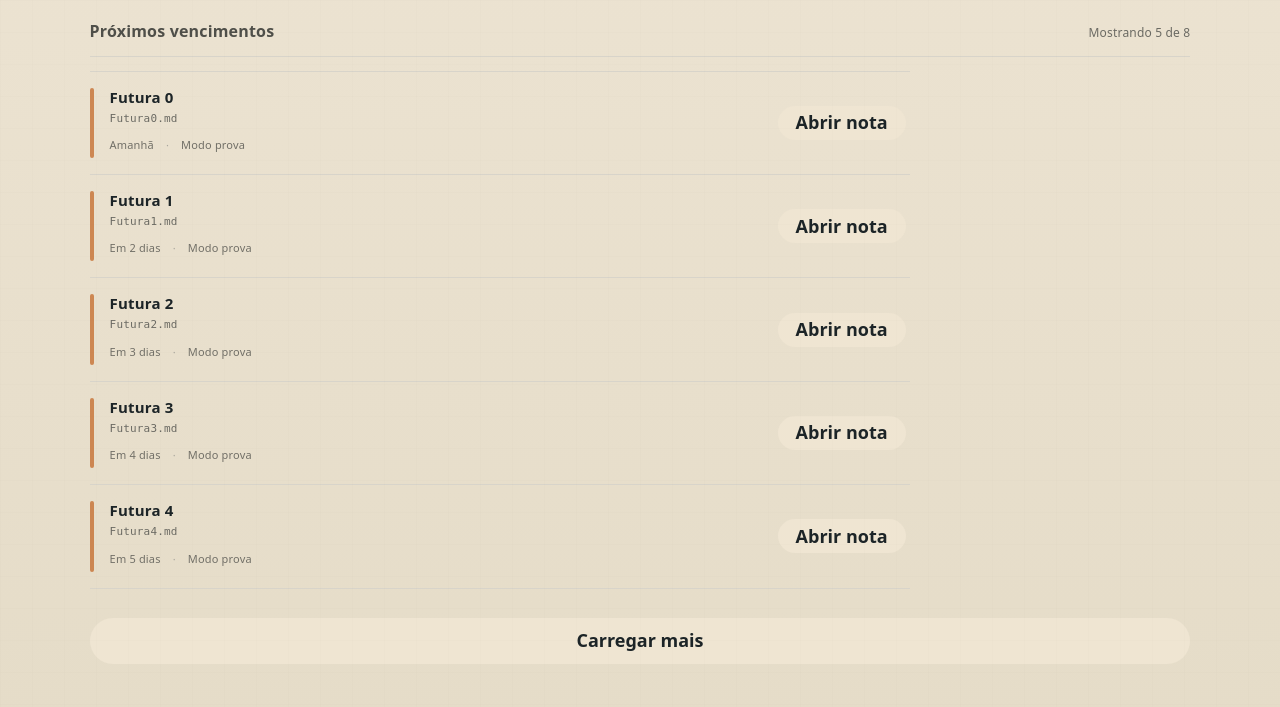
Test case: ReviewQueuePage › appends the next page on "Carregar mais" without refetching the first
(page scrolled)
Step 1. Click the button "Carregar mais" → click(640, 640), box [90,618,1190,664]
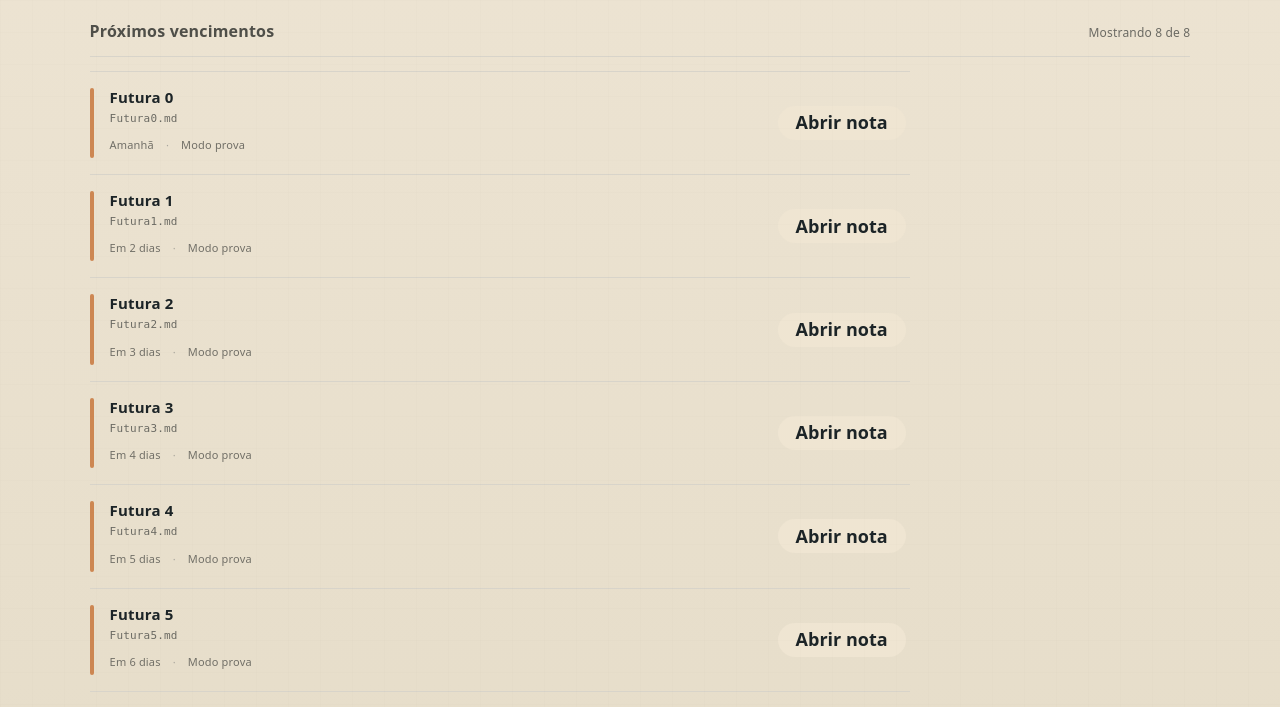
Expected: the heading "Futura 0" is shown, [110,88,174,106]
Now the text "Mostrando 8 de 8" is shown, box [1088,19,1190,46]
Now the button "Carregar mais" is gone
